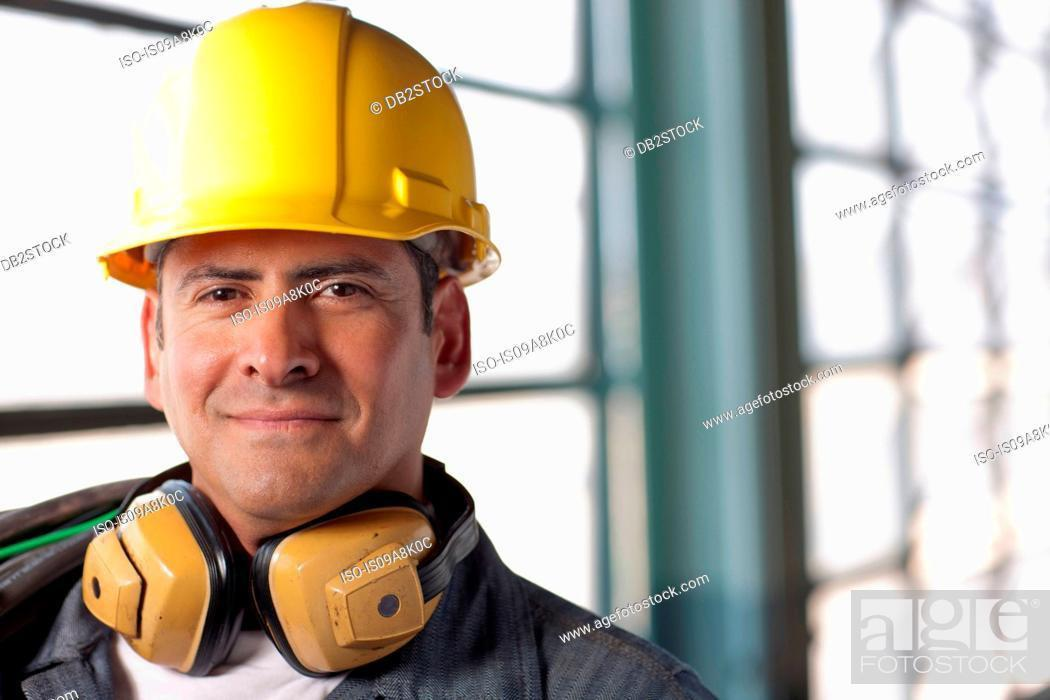hardhat: (97, 11, 503, 281)
worker: (5, 3, 711, 699)
